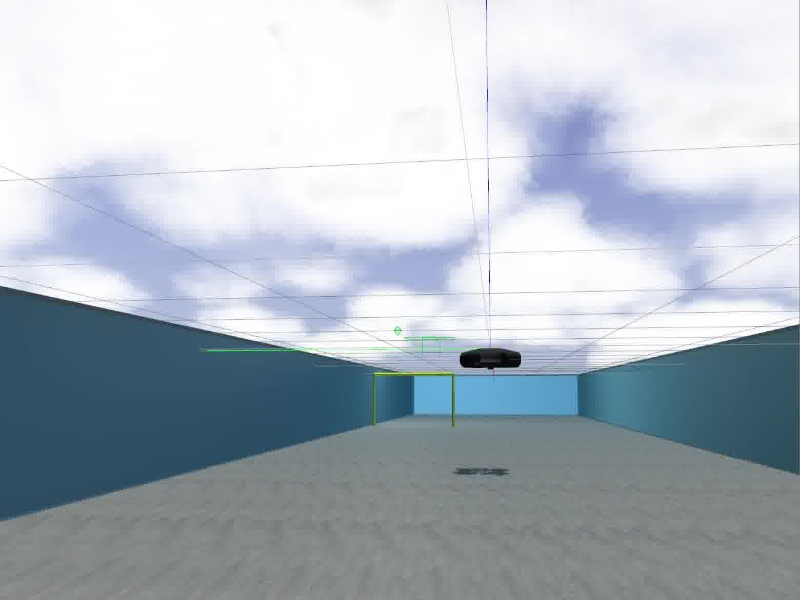gate: (371, 371, 456, 431)
